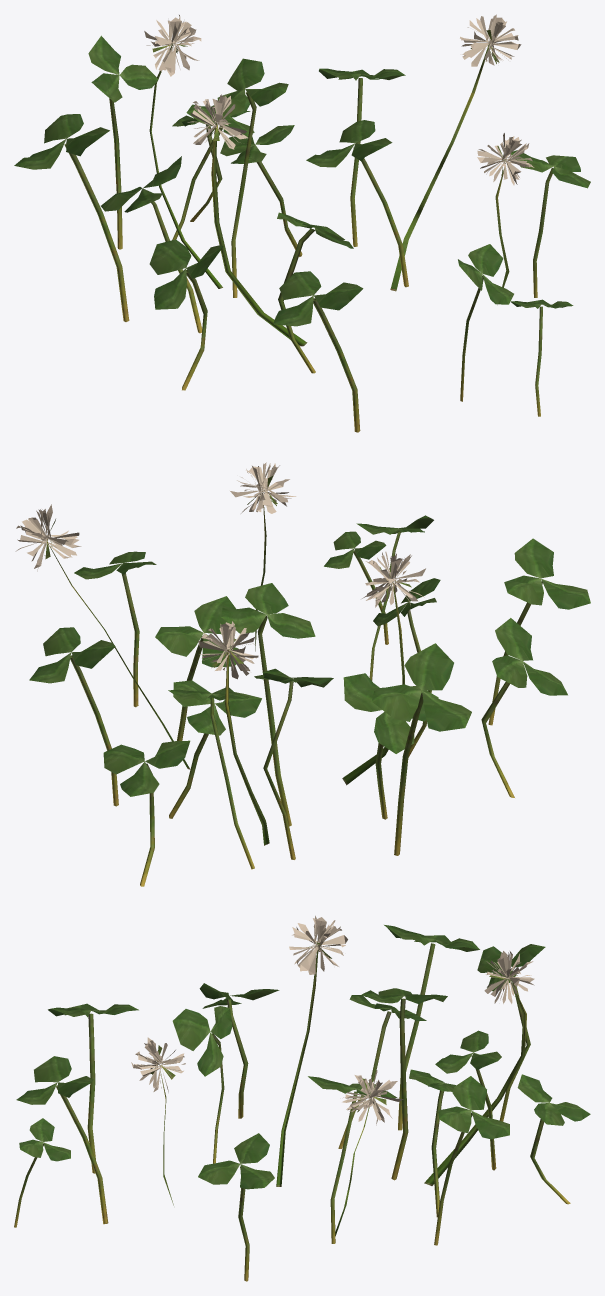
The model's file is clover_flower_001.gltf.
The picture shows the model from 3 angles, top to bottom: view 1: azimuth 30°, elevation 25°; view 2: azimuth 150°, elevation 25°; view 3: azimuth 270°, elevation 25°; orthographic projection. The views are drawn at different scales.
Parts seen in each view (by area): view 1: clover flower.001; view 2: clover flower.001; view 3: clover flower.001.
Part boxes in pixels (box(x1,y1,x2,y2)): clover flower.001: box(14, 14, 590, 432); clover flower.001: box(15, 462, 590, 886); clover flower.001: box(14, 915, 590, 1281).
Size of the model in its own units: 0.1961 by 0.1021 by 0.2202.
1 material, 1 textured.
